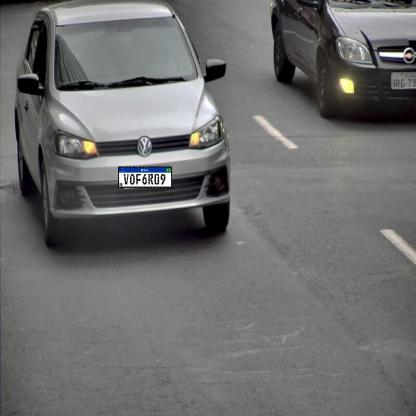PlacaM: (118, 166, 172, 188)
